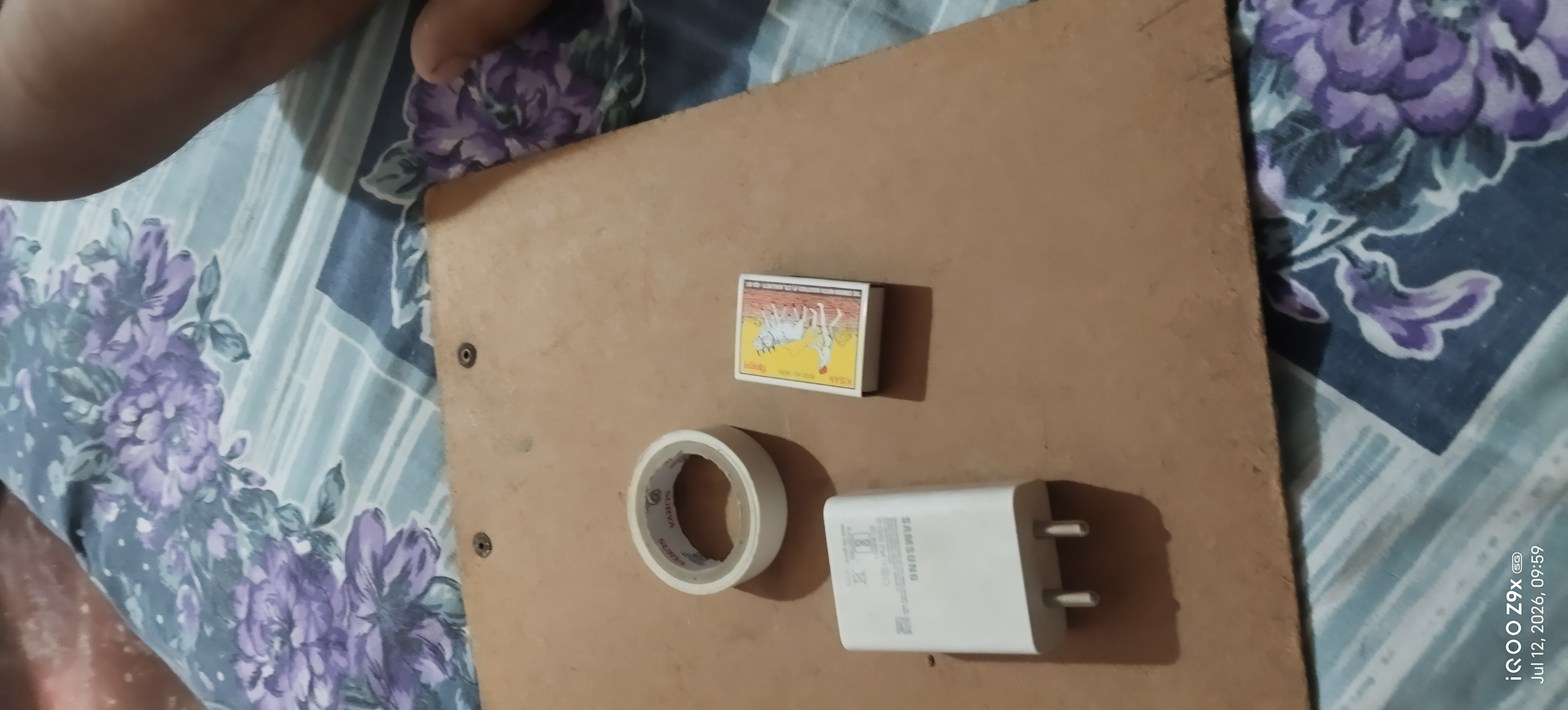charger: (815, 469, 1113, 670)
matchbox: (718, 262, 907, 411)
tape_roll: (608, 423, 808, 610)
